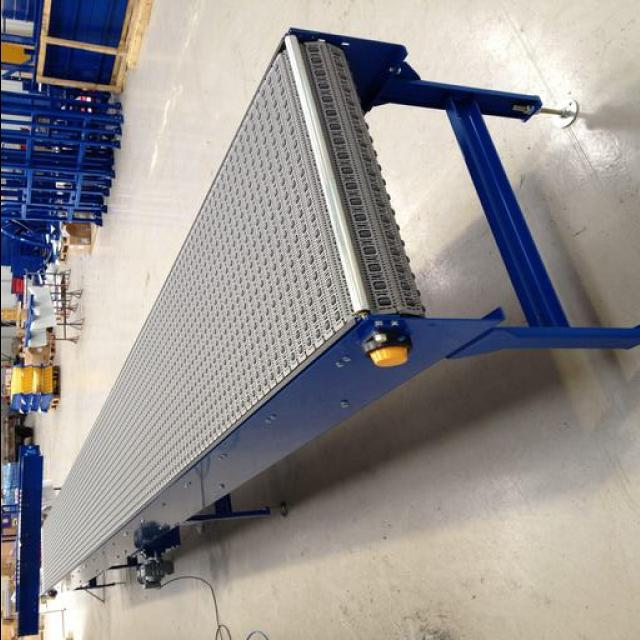conveyor: (41, 35, 420, 590)
